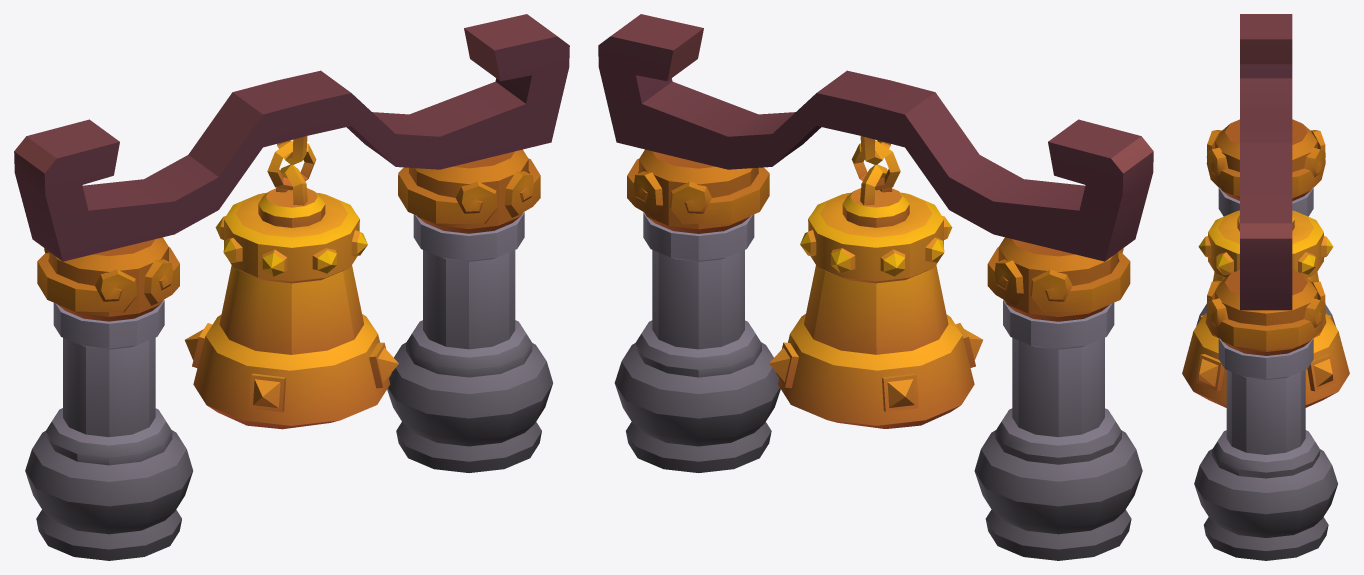
Rendered from bell.glb.
The picture shows the model from 3 angles, left to right: view 1: azimuth 30°, elevation 25°; view 2: azimuth 150°, elevation 25°; view 3: azimuth 270°, elevation 25°; orthographic projection. The views are drawn at different scales.
Parts seen in each view (by area): view 1: bell; view 2: bell; view 3: bell.
Part boxes in pixels (bbox=[...]): bell: bbox=[14, 14, 569, 560]; bell: bbox=[598, 14, 1153, 560]; bell: bbox=[1182, 14, 1349, 560].
Bounding box in the file's own units: 3.99 × 2.92 × 1.29.
Materials: 1 (1 with a texture image).
